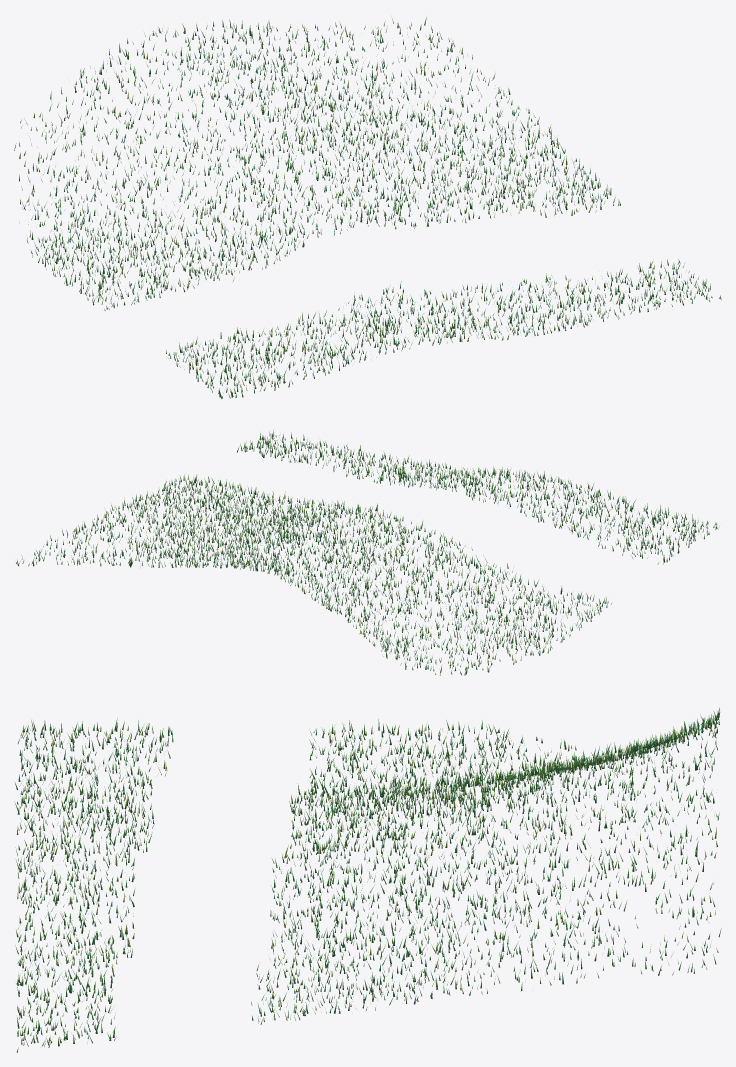
The picture shows the model from 3 angles, top to bottom: view 1: azimuth 30°, elevation 25°; view 2: azimuth 150°, elevation 25°; view 3: azimuth 270°, elevation 25°; orthographic projection. The views are drawn at different scales.
Visible parts, largest first — view 1: gc_16; view 2: gc_16; view 3: gc_16.
Boxes of the visible parts, <box> form: gc_16: <box>14,17,721,398</box>; gc_16: <box>16,430,718,675</box>; gc_16: <box>14,707,721,1052</box>.
Bounding box in the file's own units: 18.18 × 4.61 × 18.15.
1 material, 1 textured.
